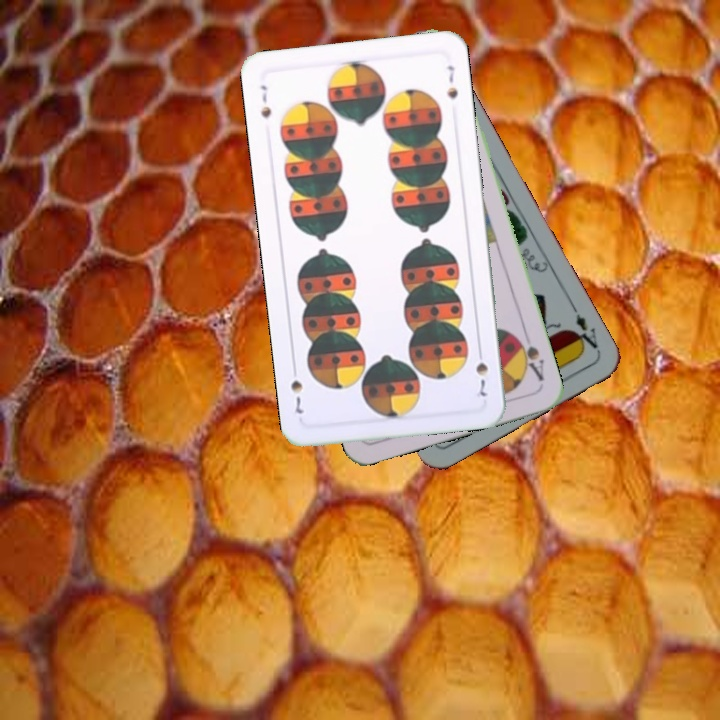EA: (567, 300, 602, 356)
S7: (471, 343, 491, 399), (256, 81, 274, 121)
SA: (511, 332, 547, 384)
